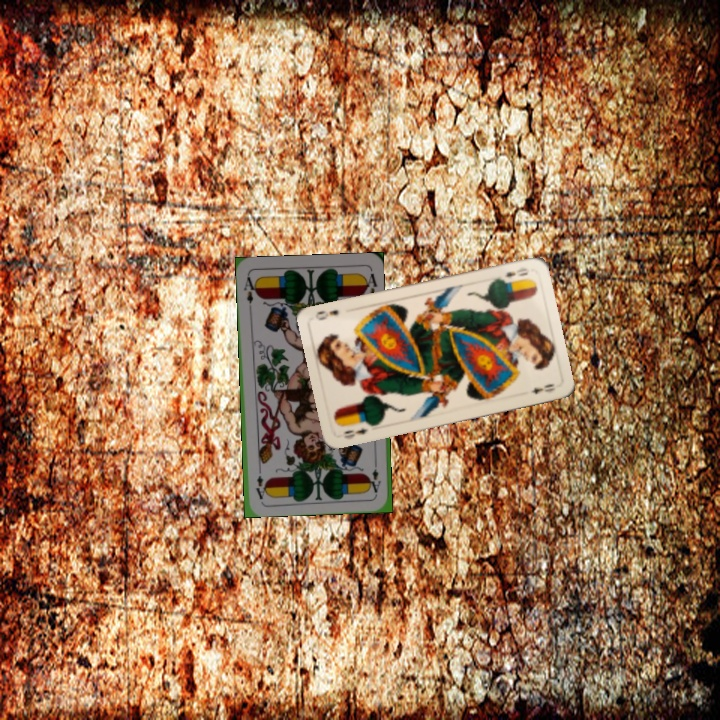EA: (240, 273, 259, 312), (367, 456, 384, 495)
EO: (339, 423, 371, 442), (500, 263, 532, 280)
